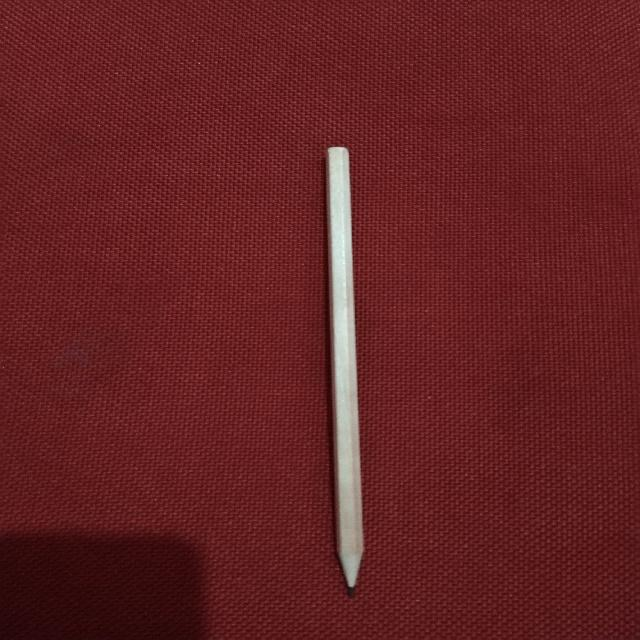pencil: (327, 147, 362, 595)
